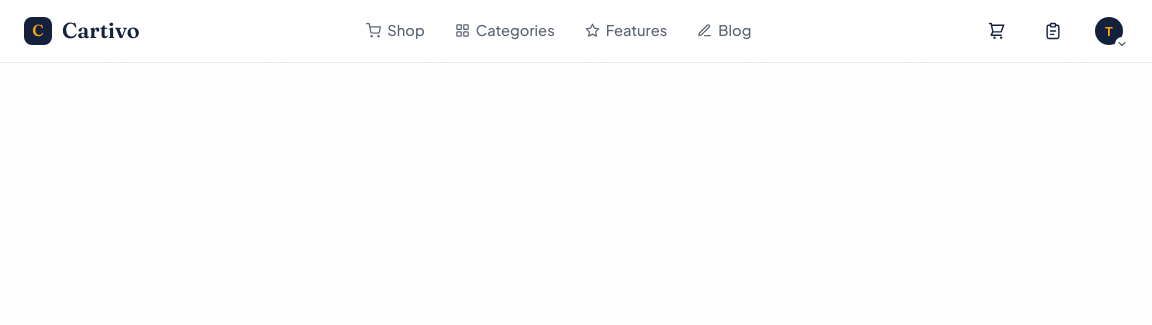
Nav — account menu › opens on avatar click
Click the button named "Account menu".
click(1109, 31)  # box [1090,12,1128,50]
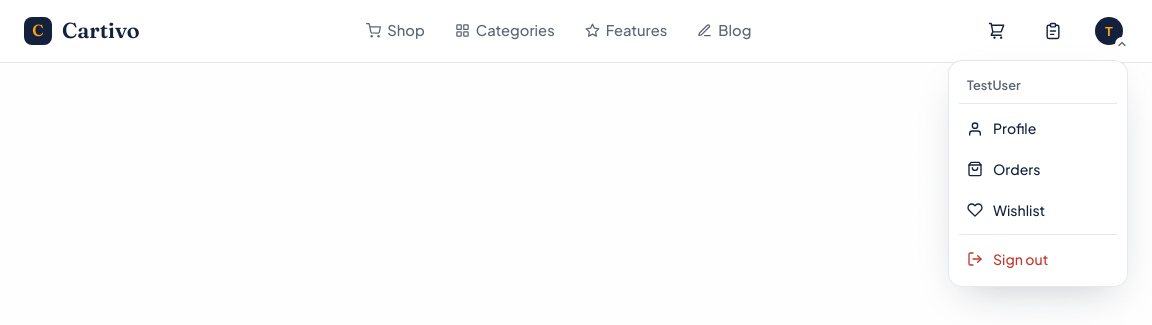
Result: the menu item "Profile" is shown at [967,120,1036,138]
Result: the menu item "Orders" is shown at [967,160,1040,178]
Result: the menu item "Wishlist" is shown at [967,200,1045,218]
